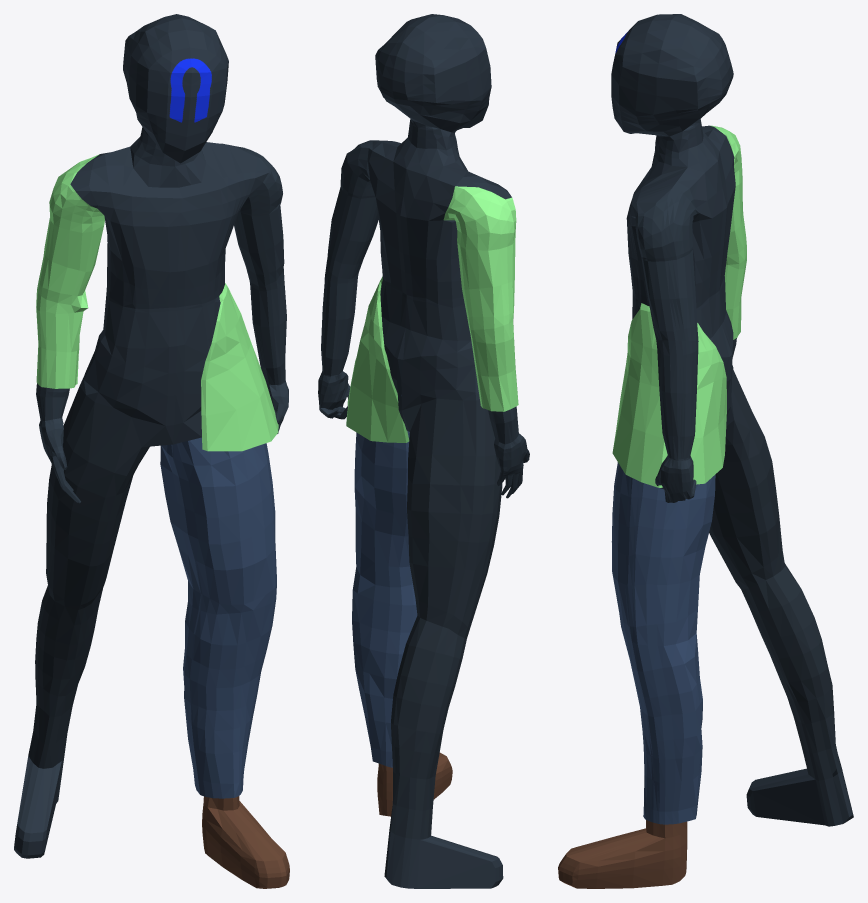
Rendered from Mar_Recover_000009.obj.
3 views of the same model, side by side, from view 1: azimuth 30°, elevation 25°; view 2: azimuth 150°, elevation 25°; view 3: azimuth 270°, elevation 25° (orthographic). The views are drawn at different scales.
Visible parts, largest first — view 1: Cube.000_Cube.001; view 2: Cube.000_Cube.001; view 3: Cube.000_Cube.001.
Boxes of the visible parts, x1=… form: Cube.000_Cube.001: x1=14, y1=14, x2=289, y2=888; Cube.000_Cube.001: x1=318, y1=14, x2=529, y2=888; Cube.000_Cube.001: x1=558, y1=14, x2=853, y2=888.
Size of the model in its own units: 1.11 by 3.94 by 1.25.
